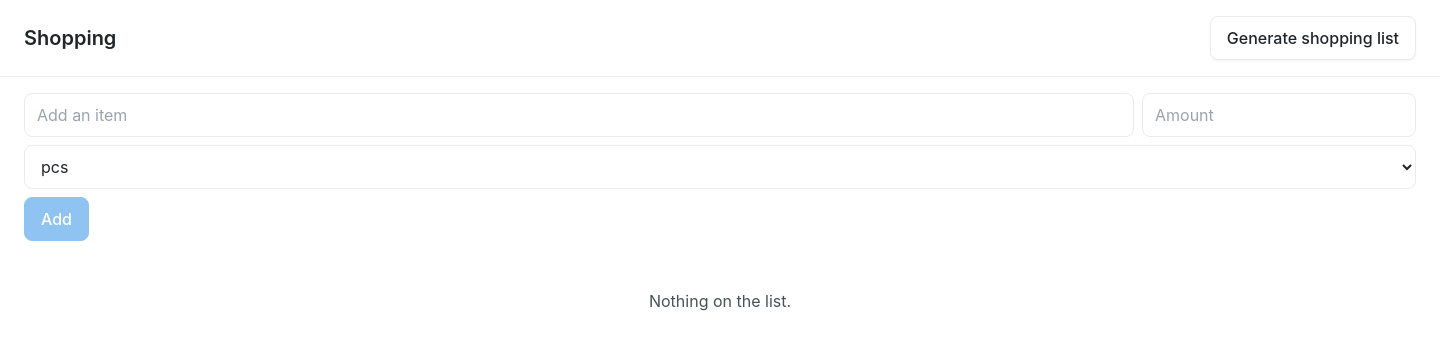
Test: The Shopping screen › adds an item by name
Expected: the text "Nothing on the list." is shown, x1=649 y1=291 x2=791 y2=311
Type "Bananas" into the field named "Item name" at x=579, y=115, box x1=24 y1=93 x2=1134 y2=137
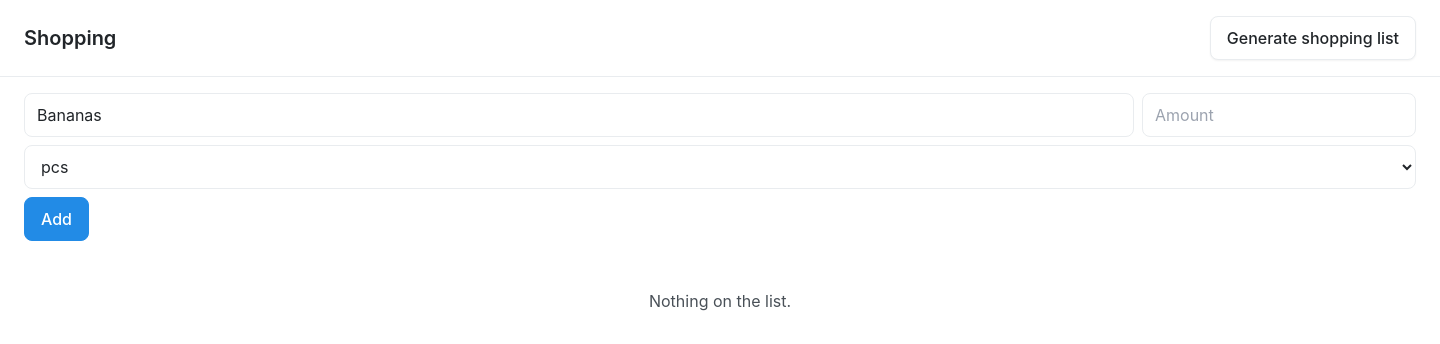
Click the button "Add" at x=56, y=219, box x1=24 y1=197 x2=89 y2=241
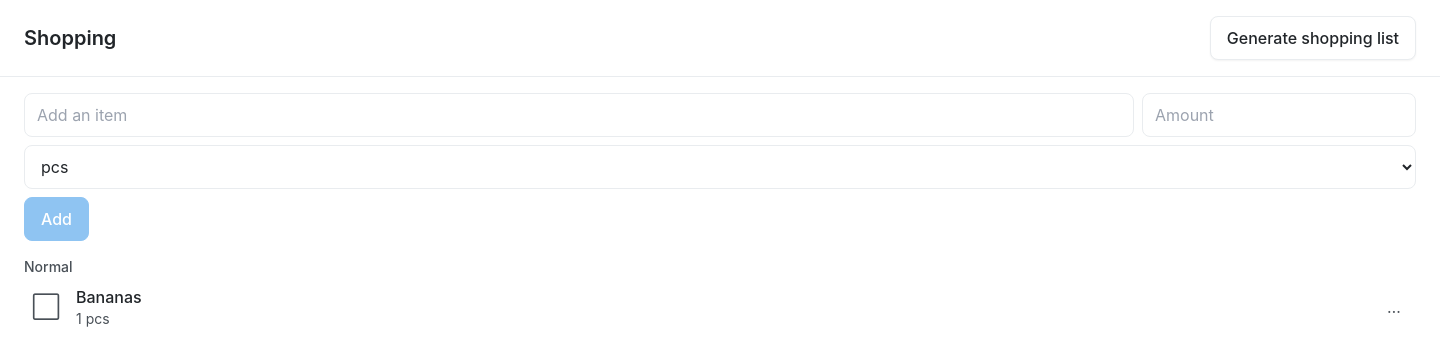
Expected: the text "Bananas" is shown, x1=76 y1=287 x2=142 y2=307
